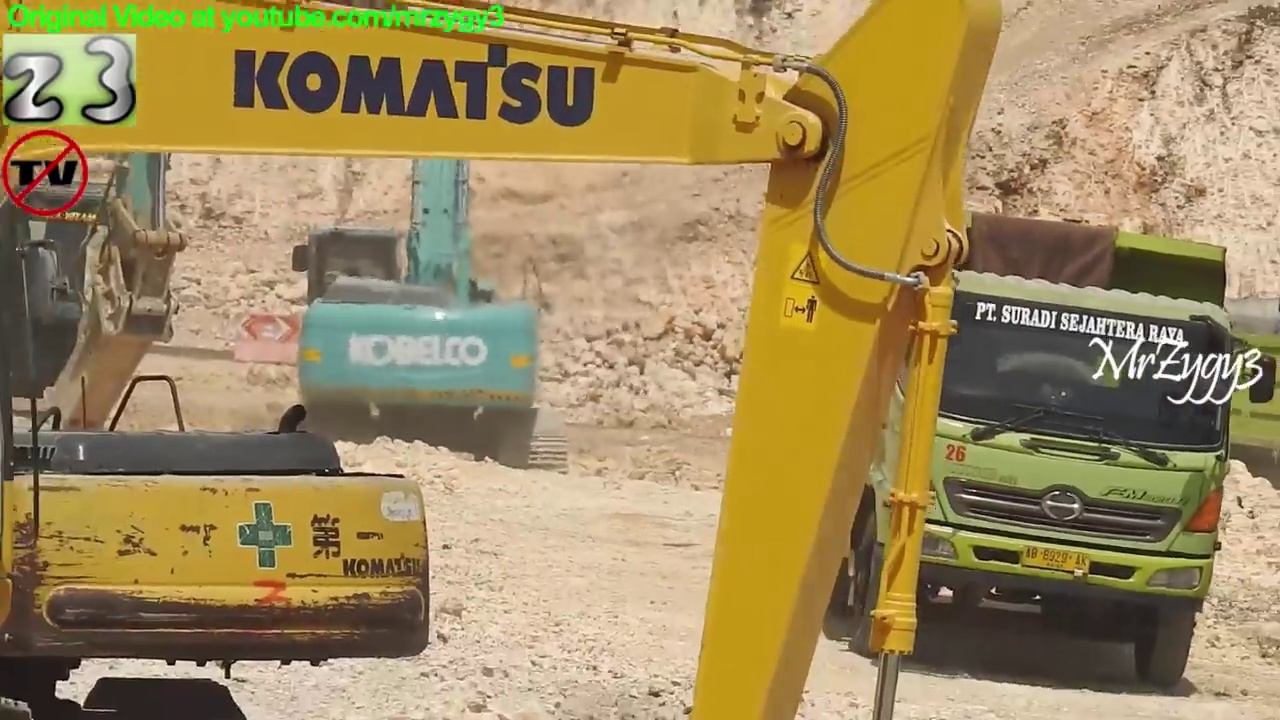excavator: (2, 1, 1005, 720), (2, 113, 439, 720), (245, 1, 592, 488)
truck: (747, 200, 1250, 696)
